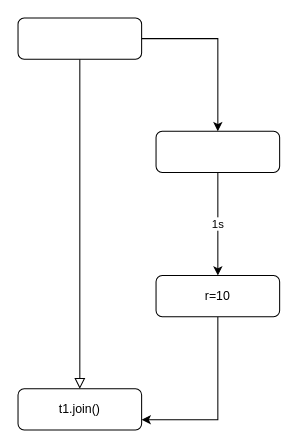
The diagram is 298 pixels wide and 448 high, and some of its shapes have lost their labels. Each missing label, with the box of its shape:
main: (17, 17, 142, 59)
t1.start(): (155, 130, 280, 173)
